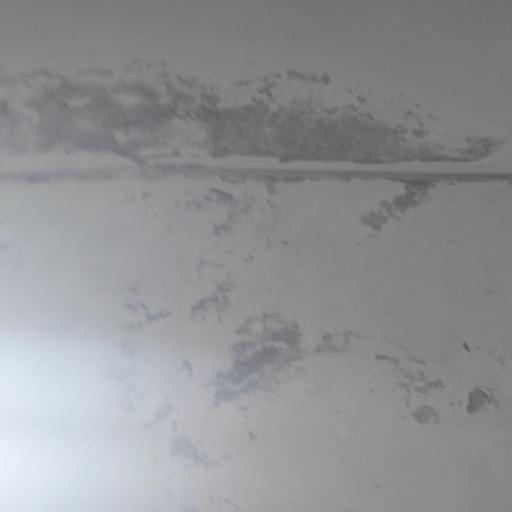peeling: (0, 24, 512, 227), (102, 236, 512, 466)
